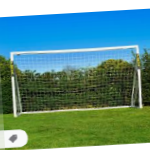goals: (9, 43, 144, 119)
